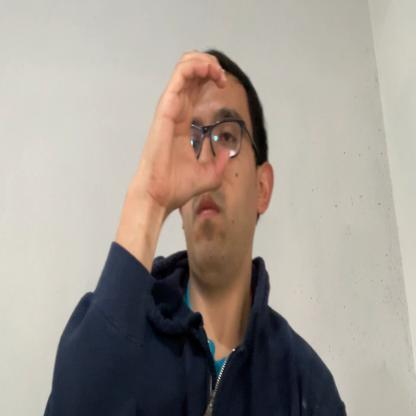C: (146, 49, 230, 207)
